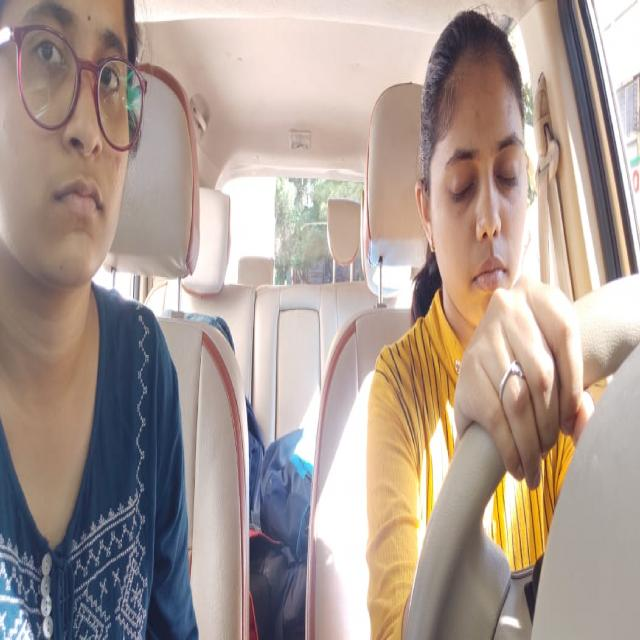drowsy: (419, 1, 529, 322)
person: (3, 0, 150, 300)
